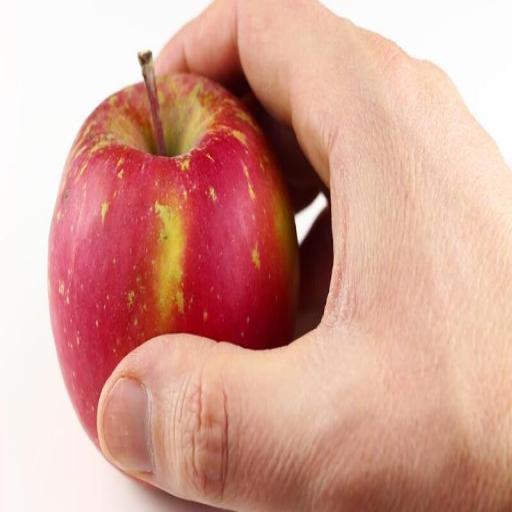apple: (49, 74, 298, 443)
